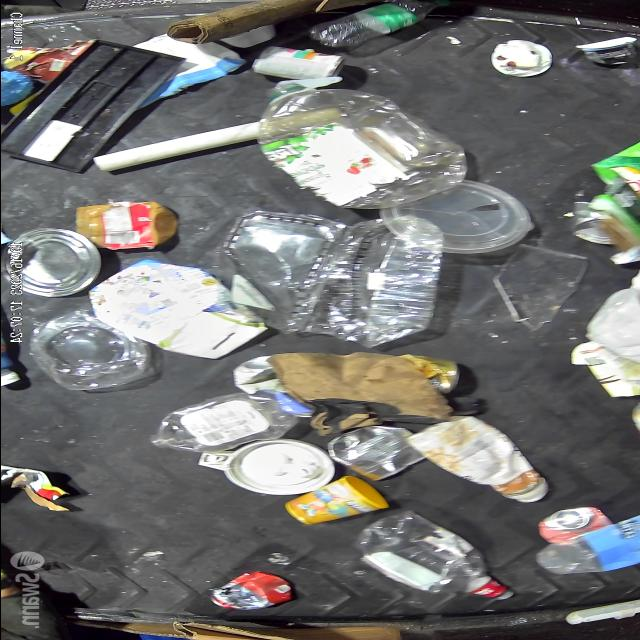can: (5, 231, 83, 287), (248, 44, 346, 82), (528, 504, 618, 539), (205, 569, 288, 605)
plastic_bottle: (262, 80, 452, 210), (347, 512, 510, 602), (322, 216, 437, 343), (158, 396, 296, 452), (296, 0, 441, 44)
